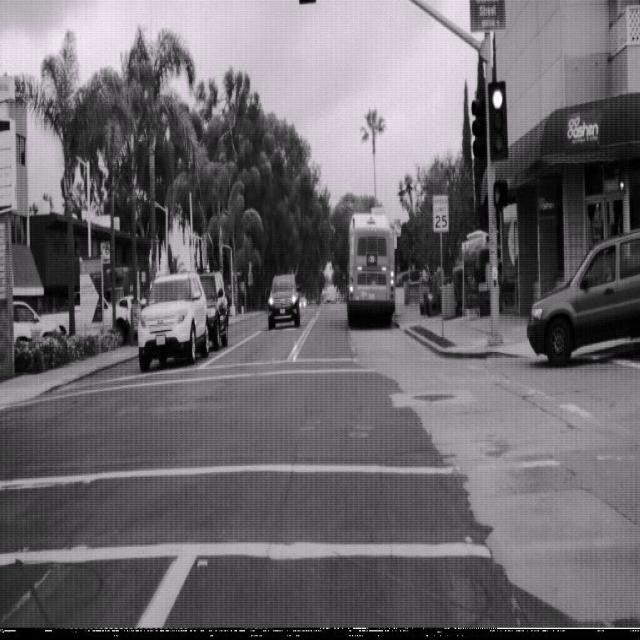speedLimit25: (432, 192, 449, 233)
